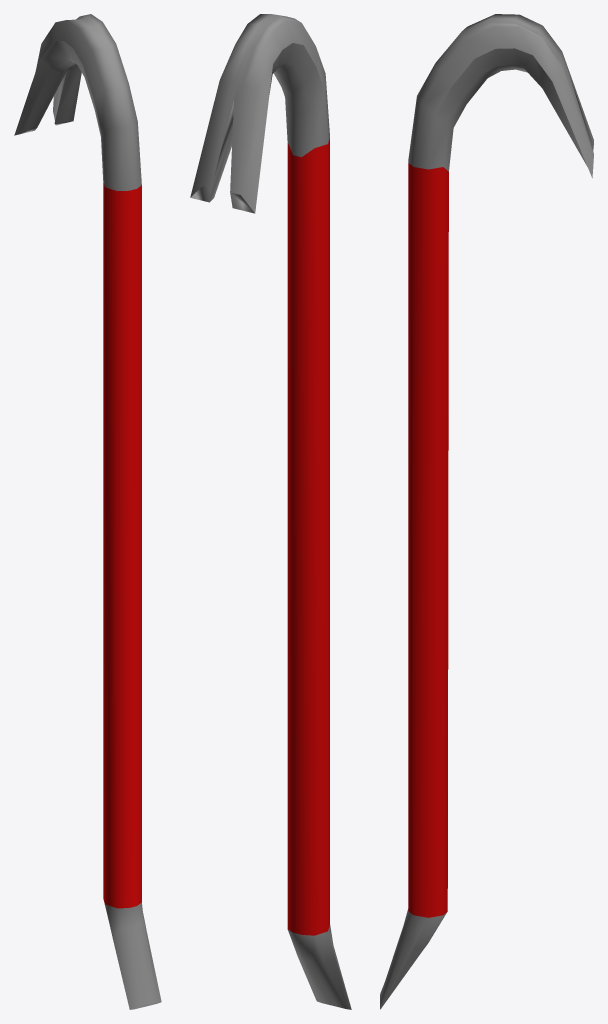
File: crowbar.glb
3 renders of one model, left to right at view 1: azimuth 30°, elevation 25°; view 2: azimuth 150°, elevation 25°; view 3: azimuth 270°, elevation 25°, orthographic. The views are drawn at different scales.
Visible parts, largest first — view 1: Cube_0; view 2: Cube_0; view 3: Cube_0.
Boxes of the visible parts, box(x1,y1,x2,y2) form: Cube_0: box(14, 14, 161, 1009); Cube_0: box(190, 14, 351, 1009); Cube_0: box(380, 14, 593, 1009).
Size of the model in its own units: 1.43 by 21.7 by 4.28.
